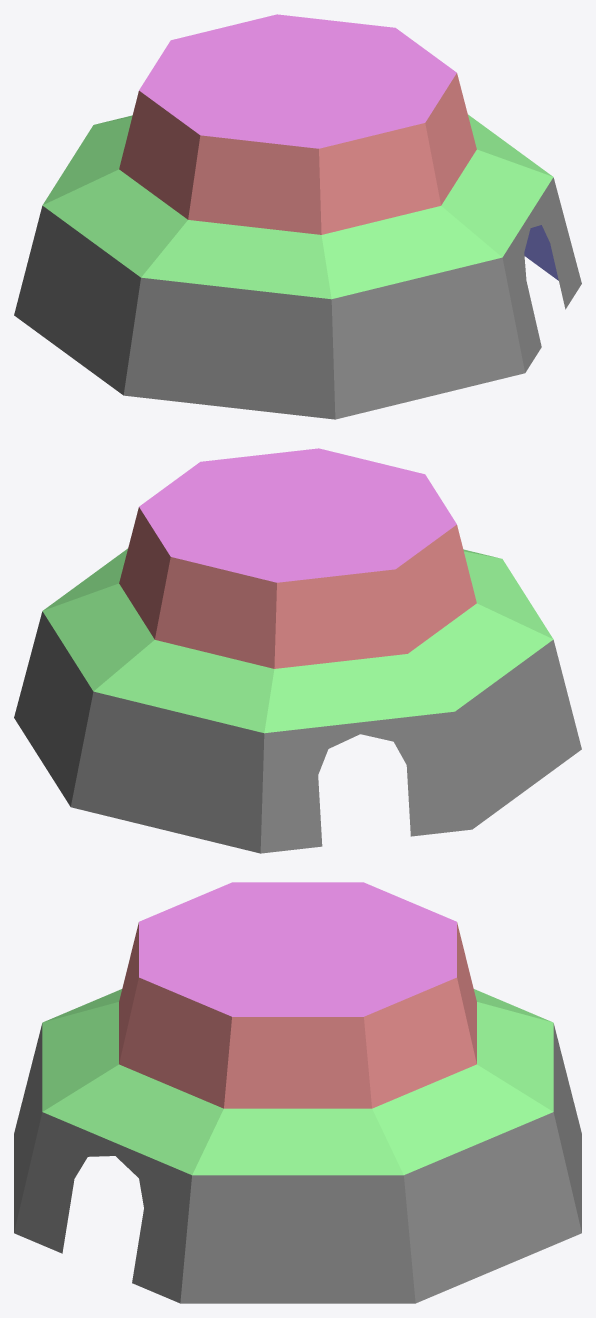
File: hdrtower_p2_base.gltf
3 renders of one model, top to bottom at view 1: azimuth 30°, elevation 25°; view 2: azimuth 150°, elevation 25°; view 3: azimuth 270°, elevation 25°, orthographic. The views are drawn at different scales.
Parts seen in each view (by area): view 1: hdrtower_p2_base; view 2: hdrtower_p2_base; view 3: hdrtower_p2_base.
Part boxes in pixels (box(x1,y1,x2,y2)): hdrtower_p2_base: box(14, 14, 581, 419); hdrtower_p2_base: box(14, 448, 581, 853); hdrtower_p2_base: box(14, 882, 581, 1303).
Size of the model in its own units: 8.09 by 3.68 by 8.09.
